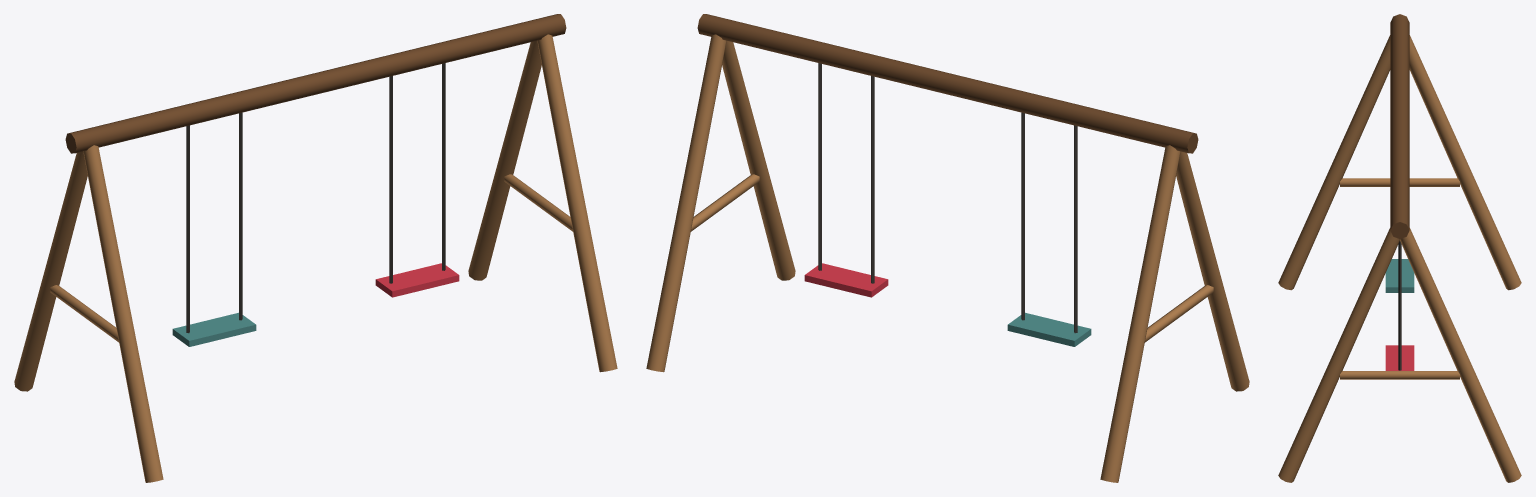
File: prop_swing_set.glb
3 views of the same model, side by side, from view 1: azimuth 30°, elevation 25°; view 2: azimuth 150°, elevation 25°; view 3: azimuth 270°, elevation 25° (orthographic). The views are drawn at different scales.
Parts seen in each view (by area): view 1: Prop_Swing_Set; view 2: Prop_Swing_Set; view 3: Prop_Swing_Set.
Boxes of the visible parts, left/top/right/bottom form: Prop_Swing_Set: left=14, top=14, right=617, bottom=482; Prop_Swing_Set: left=646, top=14, right=1249, bottom=482; Prop_Swing_Set: left=1278, top=14, right=1521, bottom=482.
Size of the model in its own units: 4.1 by 2.46 by 2.03.
